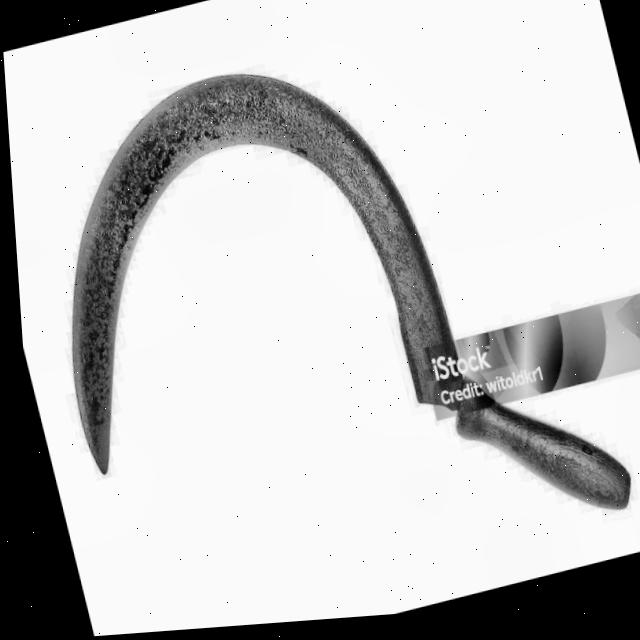celurit: (62, 64, 640, 522)
